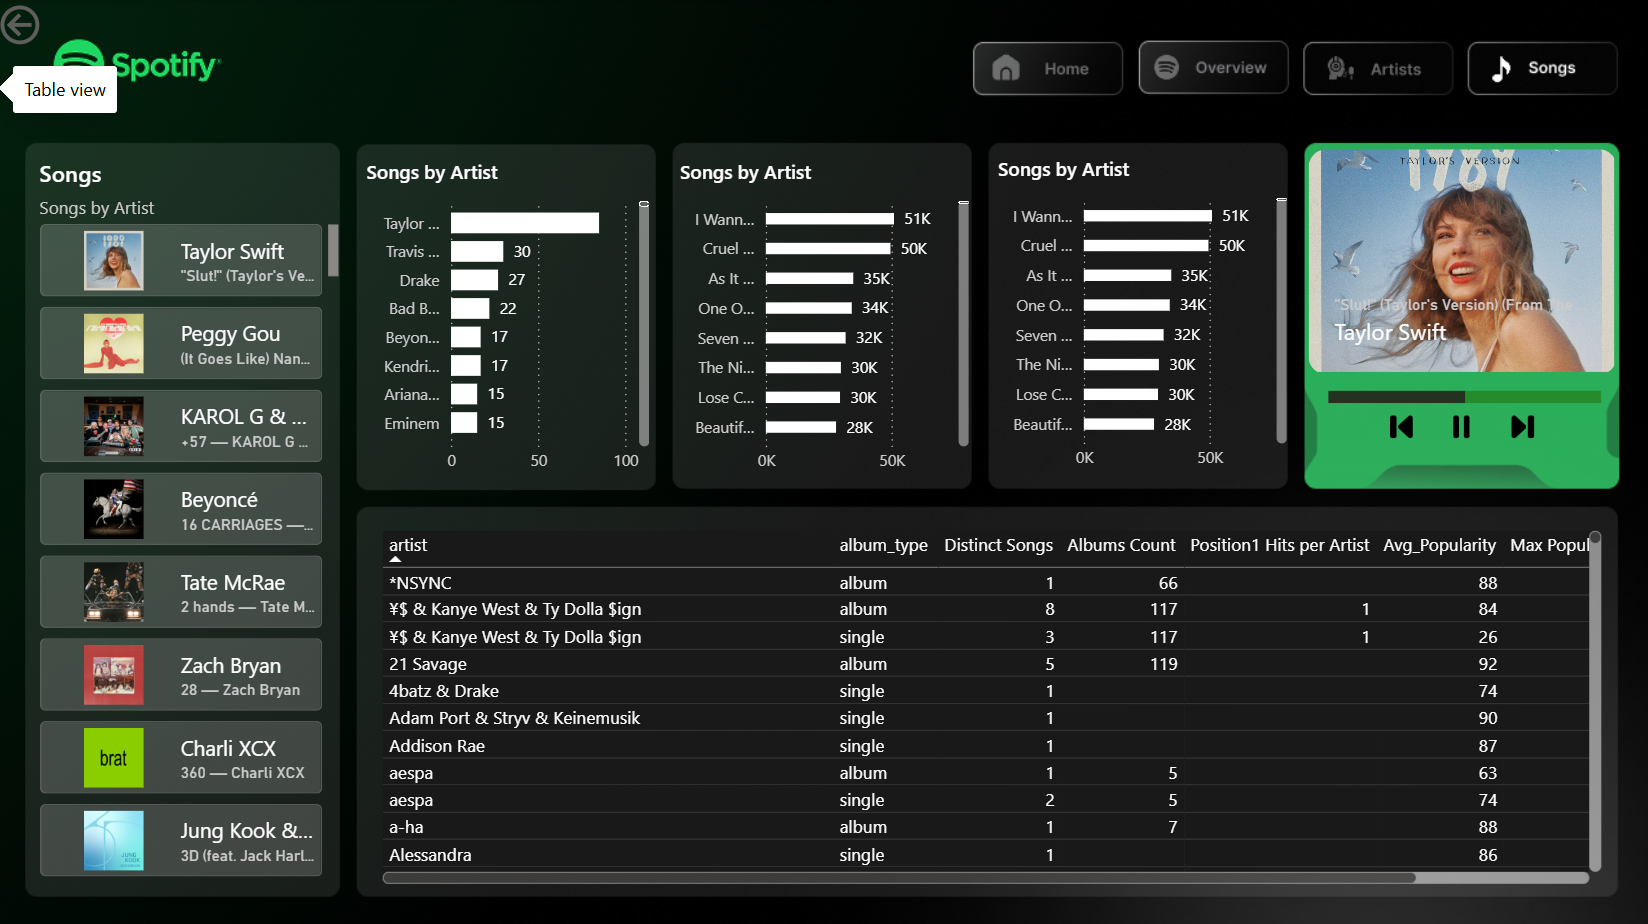

Layout of this report page (visuals, bound fields, positions):
{"tool":"powerbi","page":{"name":"Songs","canvas":[1280,720],"ordinal":3},"visuals":[{"type":"actionButton","box":[756.7,32.4,115.9,41.7],"z":0},{"type":"image","box":[1160.7,315.2,40,30],"z":0,"group":"g1"},{"type":"actionButton","box":[881.8,32.4,115.9,40.6],"z":1000},{"type":"image","box":[1067.2,315.2,40,30],"z":1000,"group":"g1"},{"type":"actionButton","box":[1137.9,32.4,115.9,40.6],"z":2000},{"type":"image","box":[1114,315.2,40,30],"z":2000,"group":"g1"},{"type":"actionButton","box":[1011.6,32.4,118.2,41.7],"z":3000},{"type":"advancedSlicerVisual","title":"Songs","fields":{"Values":["Top-50-World.Song_Artist"]},"box":[989.6,110.1,288.5,184.2],"z":4000},{"type":"hundredPercentStackedBarChart","fields":{"Y":["_Measures.Average_Popularity","Avg(Top-50-World.popularity)"]},"box":[1025.5,263,221.3,82.3],"z":5000},{"type":"group","id":"g1","title":"Group 1","box":[1067.2,315.2,134.4,30.1],"z":6000},{"type":"shape","box":[1015,110.1,237.5,264.2],"z":7000},{"type":"clusteredBarChart","title":" Songs by Artist","fields":{"Category":["Top-50-World.artist"],"Y":["_Measures.Distinct Songs"]},"box":[282.7,122.8,228.3,251.4],"z":8000},{"type":"clusteredBarChart","title":" Songs by Artist","fields":{"Category":["Top-50-World.song"],"Y":["Sum(Top-50-World.popularity)"]},"box":[524.9,122.8,232.9,251.4],"z":9000},{"type":"advancedSlicerVisual","title":"Songs","fields":{"Values":["Top-50-World.Song_Artist"]},"box":[30.1,122.8,241,565.5],"z":10000},{"type":"clusteredBarChart","title":" Songs by Artist","fields":{"Category":["Top-50-World.song"],"Y":["Sum(Top-50-World.popularity)"]},"box":[770.6,120.5,232.9,251.4],"z":11000},{"type":"tableEx","fields":{"Values":["Top-50-World.artist","Top-50-World.album_type","_Measures.Distinct Songs","_Measures.Albums Entries","_Measures.Position 1 Hits per Artist","_Measures.Average_Popularity","_Measures.Max Popularity","_Measures.Average Duration (min)"]},"box":[294.2,405.3,952.1,282.9],"z":12000},{"type":"actionButton","box":[0,0,100,40],"z":12001}]}

Visuals, with their boxes on the page's 1280x720 design canvas (x1, y1, x2, y2). These are canvas units, not pixel positions in the 1648x924 screenshot, which may show the page scaled, cropped or inside an application window:
actionButton: {"x1": 757, "y1": 32, "x2": 873, "y2": 74}
image: {"x1": 1161, "y1": 315, "x2": 1201, "y2": 345}
actionButton: {"x1": 882, "y1": 32, "x2": 998, "y2": 73}
image: {"x1": 1067, "y1": 315, "x2": 1107, "y2": 345}
actionButton: {"x1": 1138, "y1": 32, "x2": 1254, "y2": 73}
image: {"x1": 1114, "y1": 315, "x2": 1154, "y2": 345}
actionButton: {"x1": 1012, "y1": 32, "x2": 1130, "y2": 74}
"Songs" advancedSlicerVisual: {"x1": 990, "y1": 110, "x2": 1278, "y2": 294}
hundredPercentStackedBarChart - _Measures.Average_Popularity x Avg(Top-50-World.popularity): {"x1": 1026, "y1": 263, "x2": 1247, "y2": 345}
"Group 1" group: {"x1": 1067, "y1": 315, "x2": 1202, "y2": 345}
shape: {"x1": 1015, "y1": 110, "x2": 1252, "y2": 374}
" Songs by Artist" clusteredBarChart: {"x1": 283, "y1": 123, "x2": 511, "y2": 374}
" Songs by Artist" clusteredBarChart: {"x1": 525, "y1": 123, "x2": 758, "y2": 374}
"Songs" advancedSlicerVisual: {"x1": 30, "y1": 123, "x2": 271, "y2": 688}
" Songs by Artist" clusteredBarChart: {"x1": 771, "y1": 120, "x2": 1004, "y2": 372}
tableEx - Top-50-World.artist x Top-50-World.album_type: {"x1": 294, "y1": 405, "x2": 1246, "y2": 688}
actionButton: {"x1": 0, "y1": 0, "x2": 100, "y2": 40}
